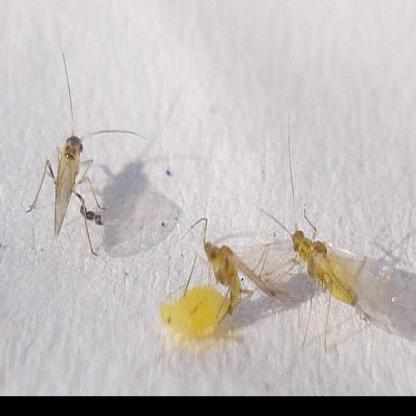aphid: (21, 87, 122, 255), (270, 194, 374, 355), (188, 204, 280, 321), (152, 256, 234, 344)
